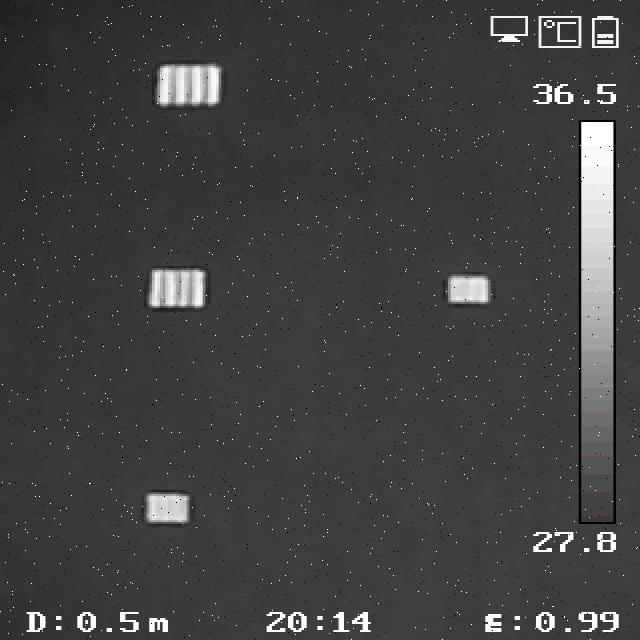Distinguishable 4-bar target: (156, 62, 223, 104), (149, 270, 204, 308)
threshold 4-bar target: (148, 494, 188, 522), (452, 276, 487, 303)
